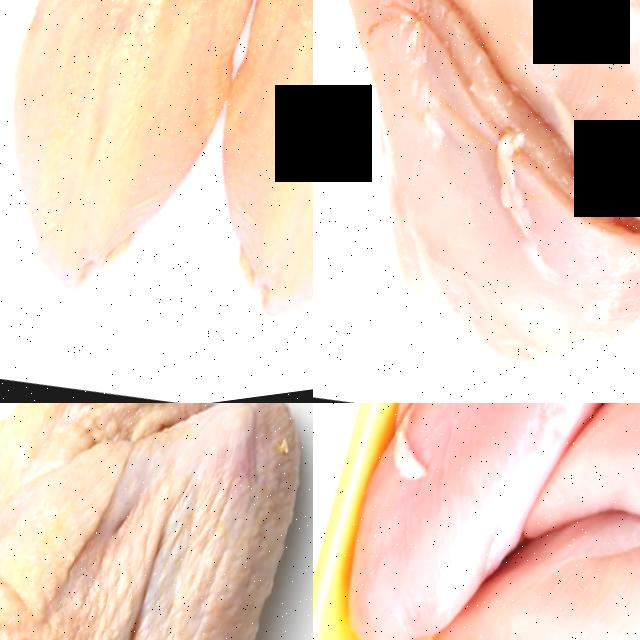chicken breast: (313, 43, 640, 403), (0, 0, 304, 367), (170, 0, 313, 394), (344, 403, 577, 640), (421, 0, 640, 246), (456, 498, 640, 640), (554, 403, 640, 605)
chicken wing: (0, 403, 313, 640)
